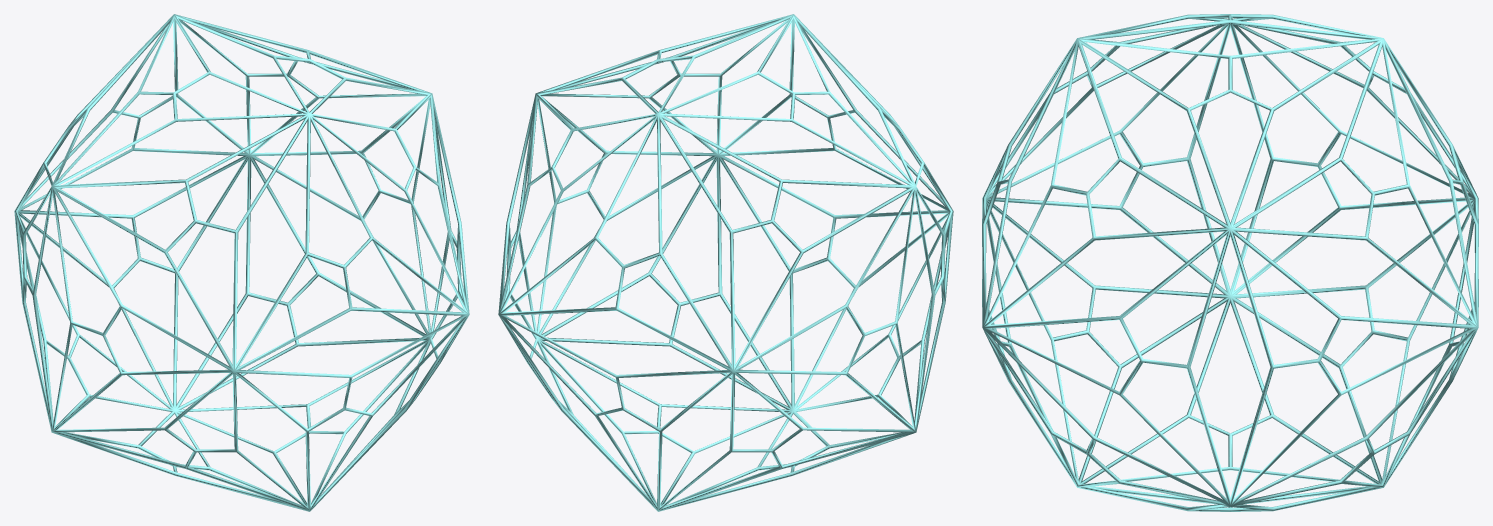
File: JoinedTruncatedDodecahedron2.glb
3 renders of one model, left to right at view 1: azimuth 30°, elevation 25°; view 2: azimuth 150°, elevation 25°; view 3: azimuth 270°, elevation 25°, orthographic. The views are drawn at different scales.
Visible parts, largest first — view 1: JoinedTruncatedDodecahedron; view 2: JoinedTruncatedDodecahedron; view 3: JoinedTruncatedDodecahedron.
Part boxes in pixels (x1=…): JoinedTruncatedDodecahedron: x1=14, y1=14, x2=469, y2=511; JoinedTruncatedDodecahedron: x1=498, y1=14, x2=953, y2=511; JoinedTruncatedDodecahedron: x1=982, y1=14, x2=1478, y2=511.
Bounding box in the file's own units: 5.9 × 5.9 × 5.9.
